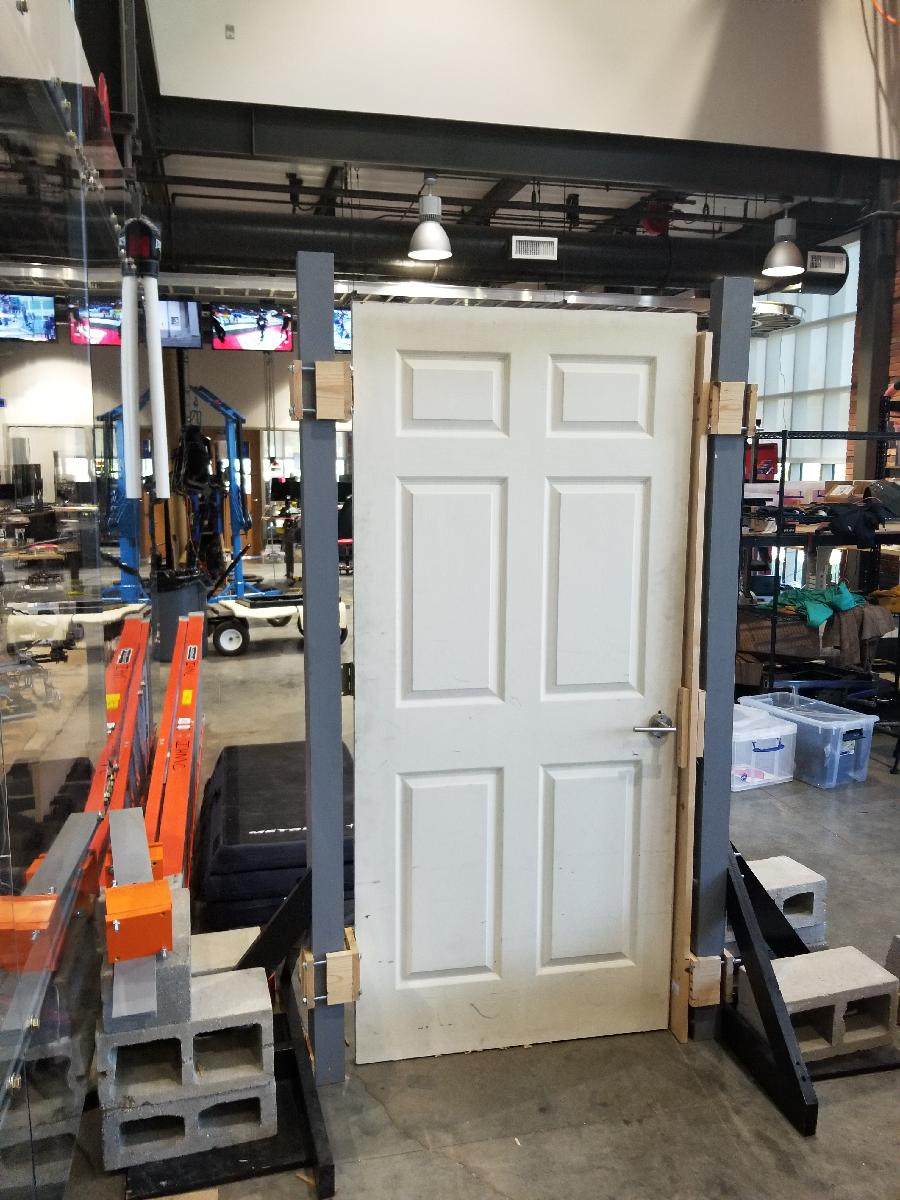door: (346, 293, 703, 1070)
doorHandle: (633, 714, 681, 742)
